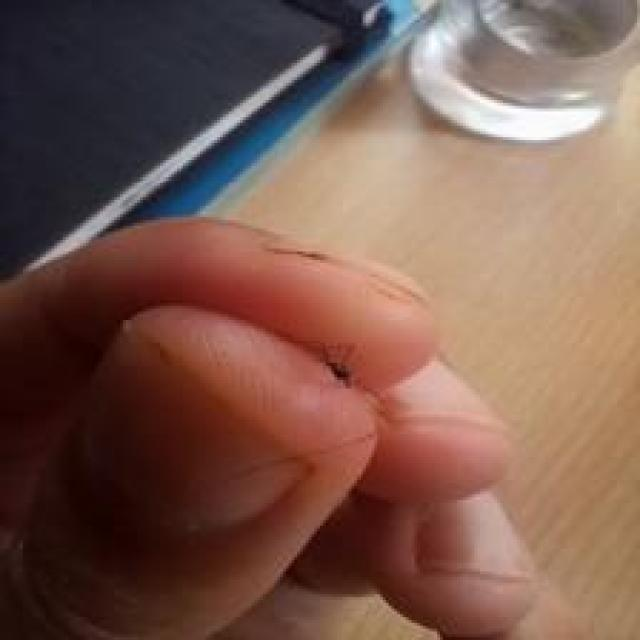Aedes albopictus: (403, 0, 640, 143)
